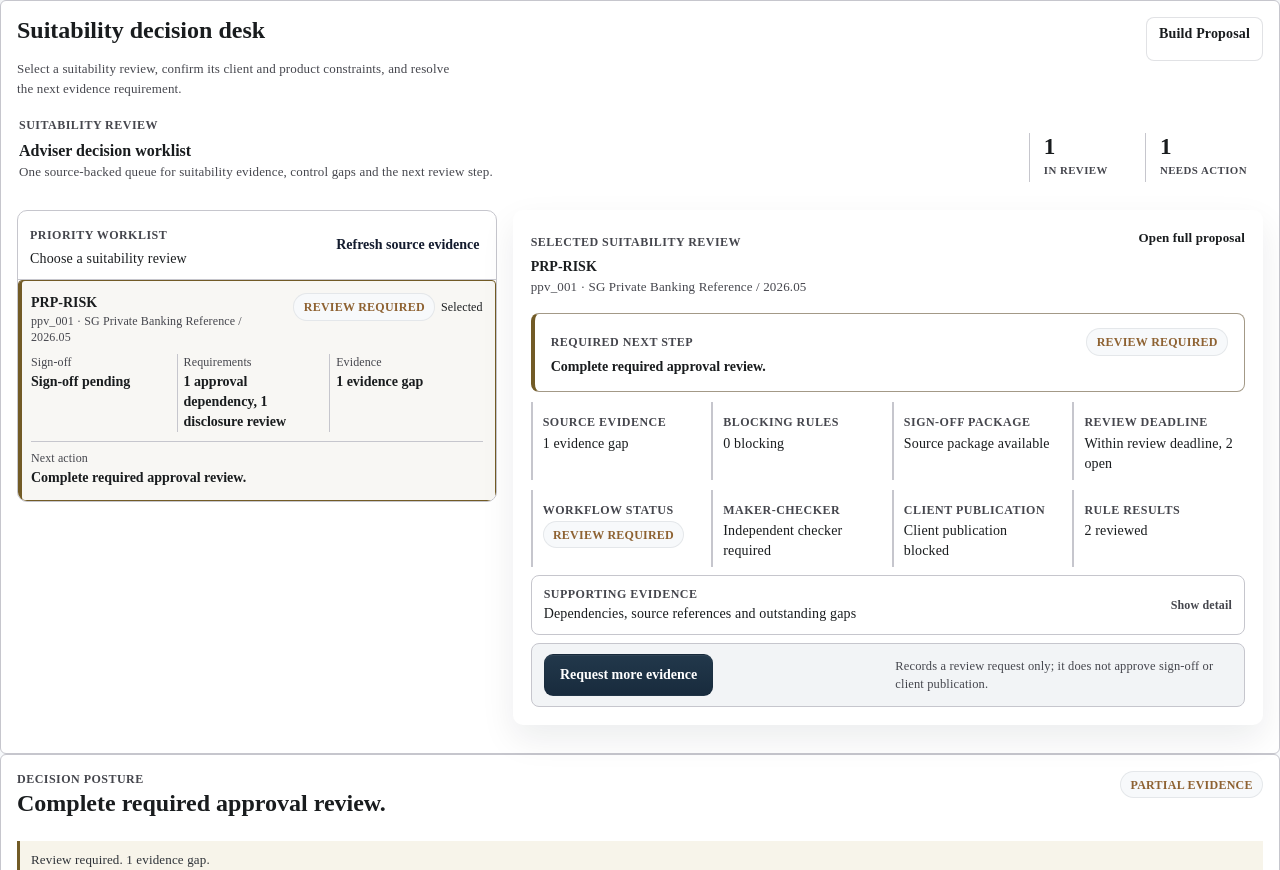
Test: ProposalLifecycleWorkspace › keeps cached policy evidence visible but marks a failed refresh partial
What coordinates should you click on to do the following:
click the button "Request more evidence"
I would click on:
 (629, 675)
Its box is [544,654,714,696].
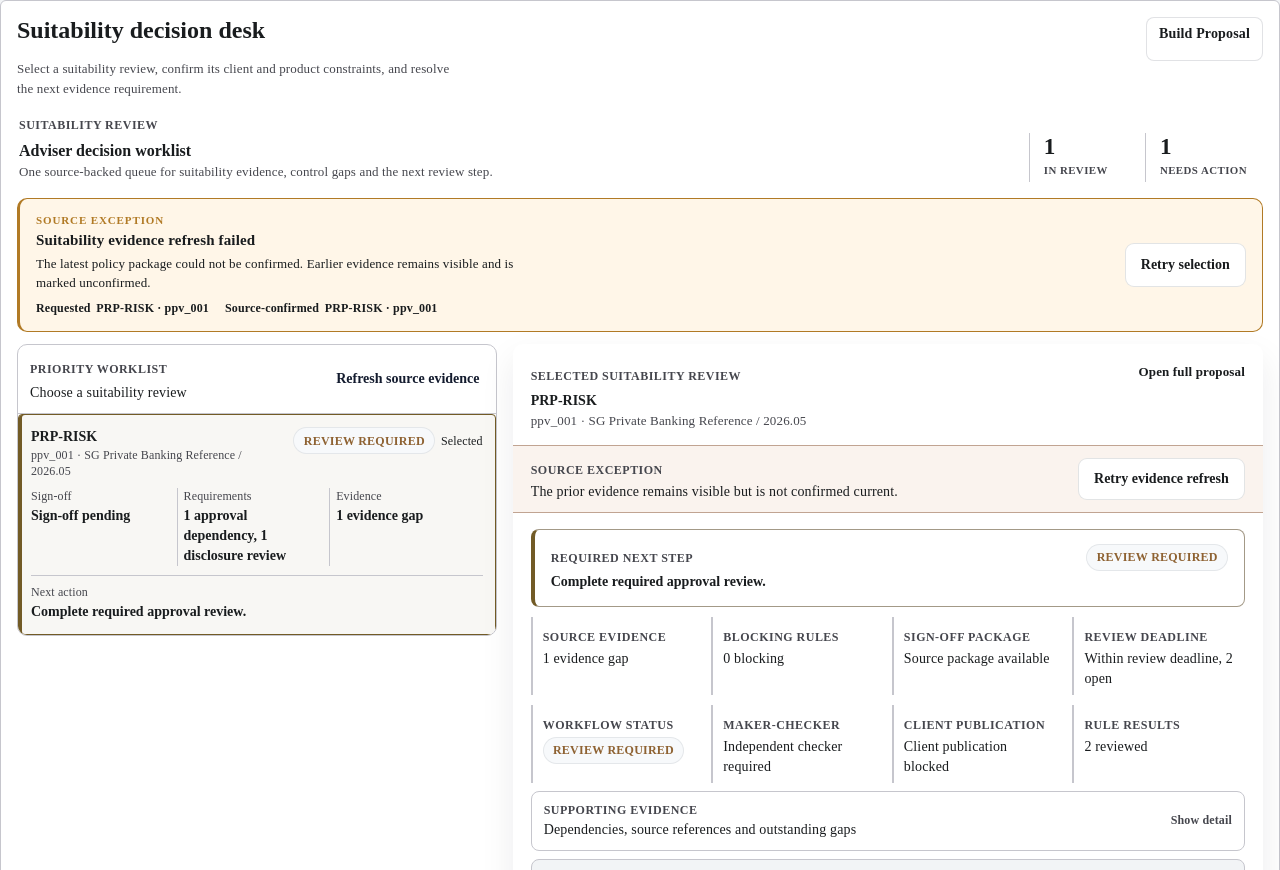
Expected: the heading "PRP-RISK" is shown, [531,393,597,408]
Result: the text "The prior evidence remains visible but is not confirmed current." is shown at [531,482,898,502]
